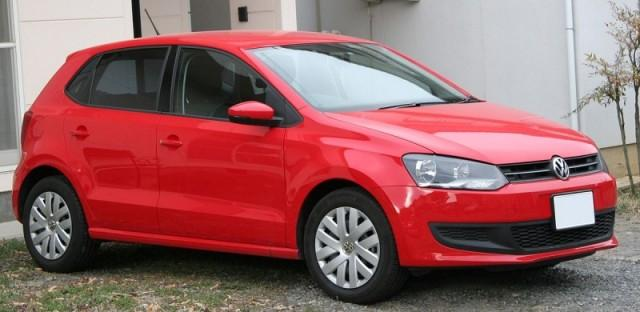Hatchback: (10, 17, 630, 312)
